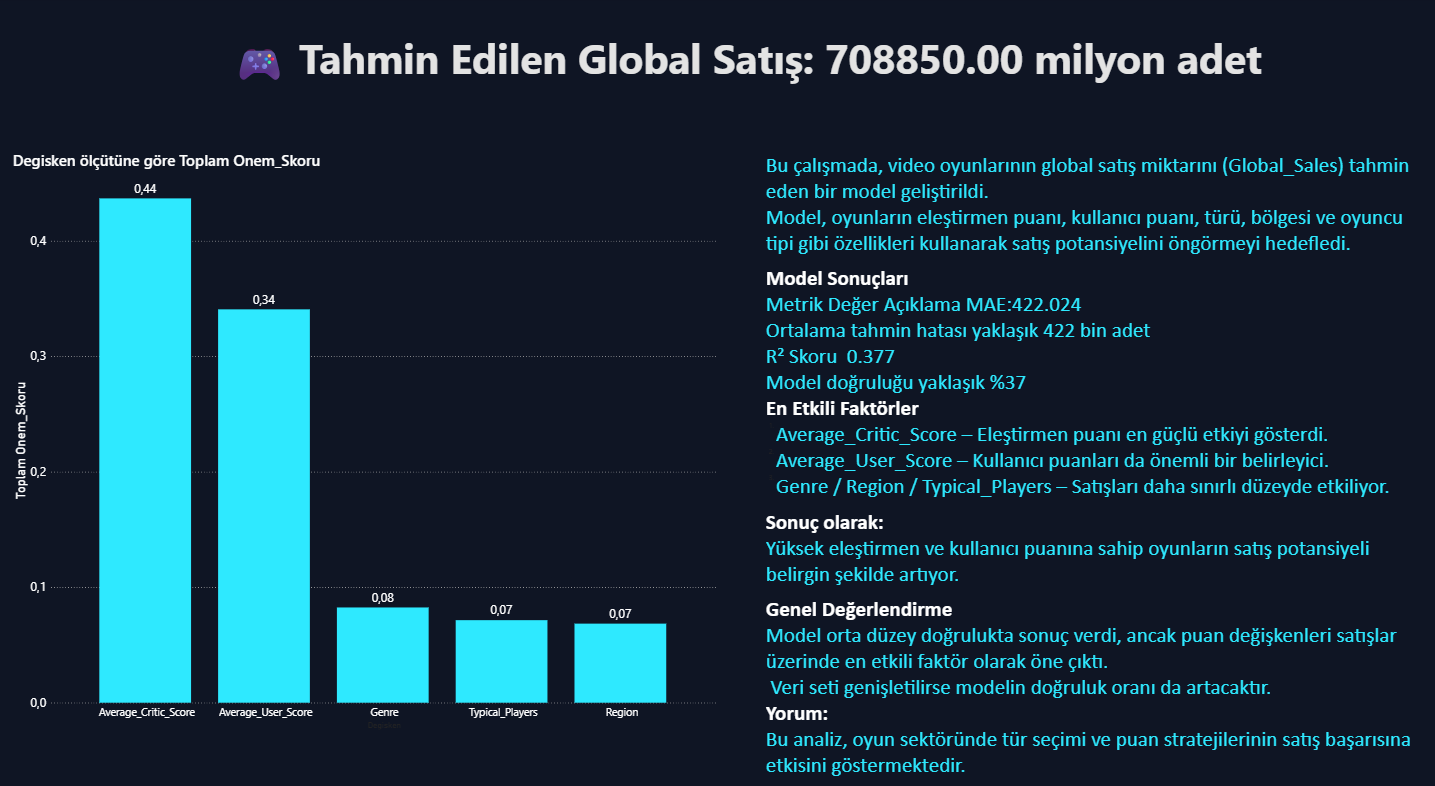

The dashboard page shown, as its layout file describes it:
{"tool":"powerbi","page":{"name":"Page 5","canvas":[2560,1420],"ordinal":6},"visuals":[{"type":"textbox","box":[395,53.9,1865.5,206.5],"z":0},{"type":"clusteredColumnChart","fields":{"Category":["feature_importance_results.Degisken"],"Y":["Sum(feature_importance_results.Onem_Skoru)"]},"box":[23.3,271.1,1256.9,1030.6],"z":1000},{"type":"textbox","box":[1355.6,251.1,1170.7,1168.9],"z":2000}]}

Visuals, with their boxes in screenshot pixels (x1, y1, x2, y2), scaled from the page's 2560x1420 canvas onto the 1435x786 screenshot:
textbox: box(221, 30, 1267, 144)
clusteredColumnChart - feature_importance_results.Degisken x Sum(feature_importance_results.Onem_Skoru): box(13, 150, 718, 721)
textbox: box(760, 139, 1416, 785)
